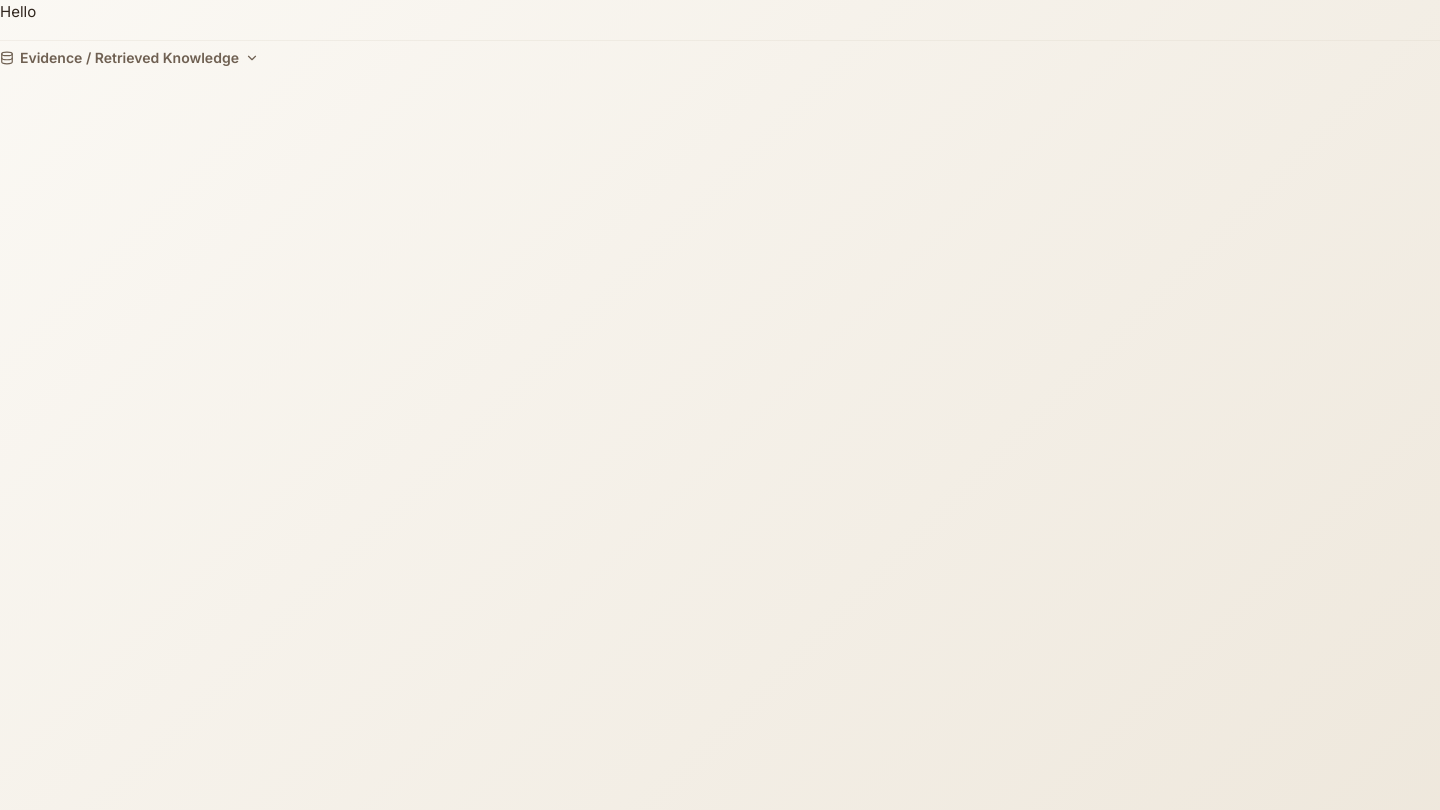
Test: ChatMessage › renders Evidence panel when context is provided with success status
Expected: the text "Evidence / Retrieved Knowledge" is shown, [20, 49, 239, 68]
Click the button "Evidence / Retrieved Knowledge" at (129, 58), box [0, 49, 259, 68]
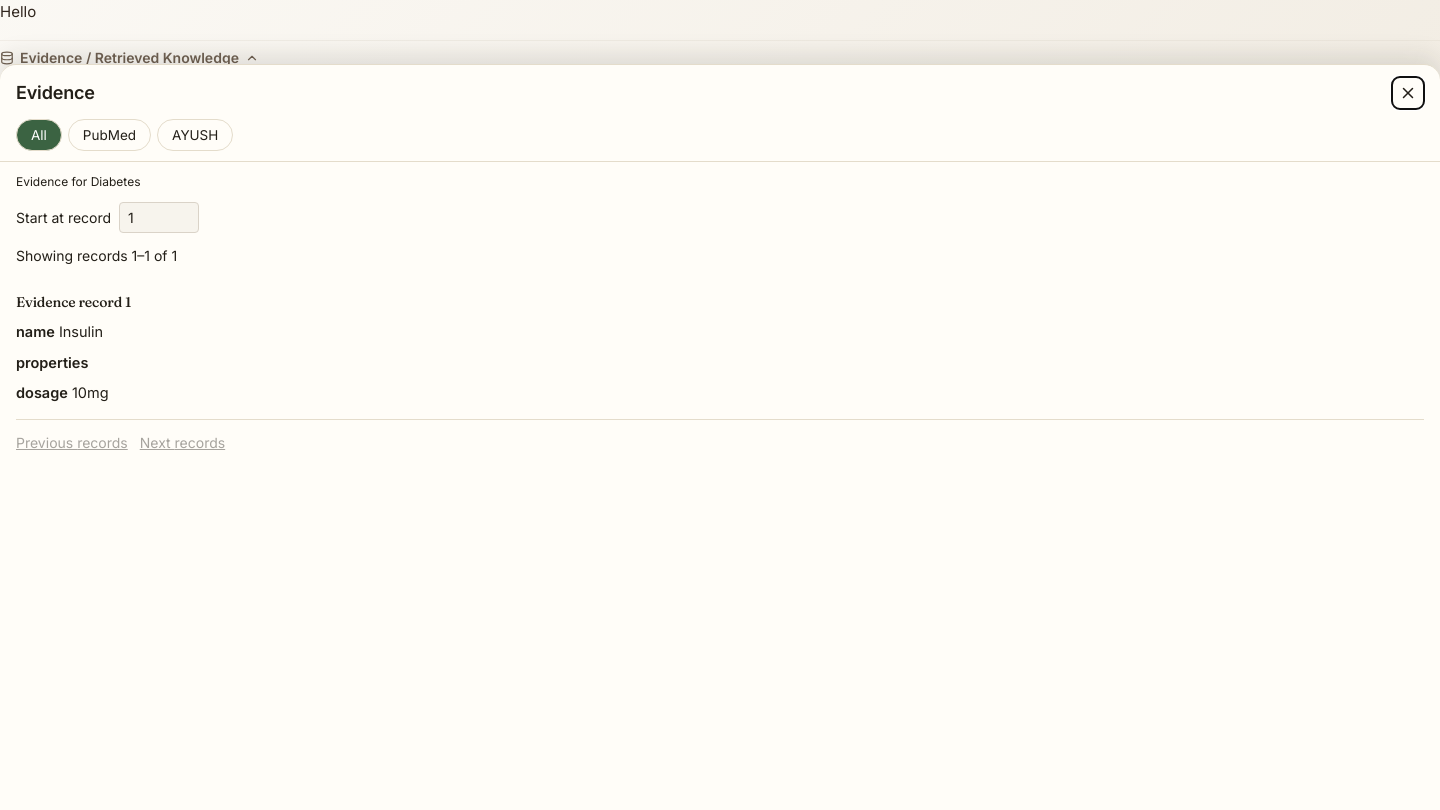
Expected: the text "Diabetes" is shown, [91, 174, 140, 189]
Expected: the element "Evidence record 1" is shown, [16, 278, 1424, 420]
Expected: the text "Insulin" is shown, [59, 323, 103, 340]
